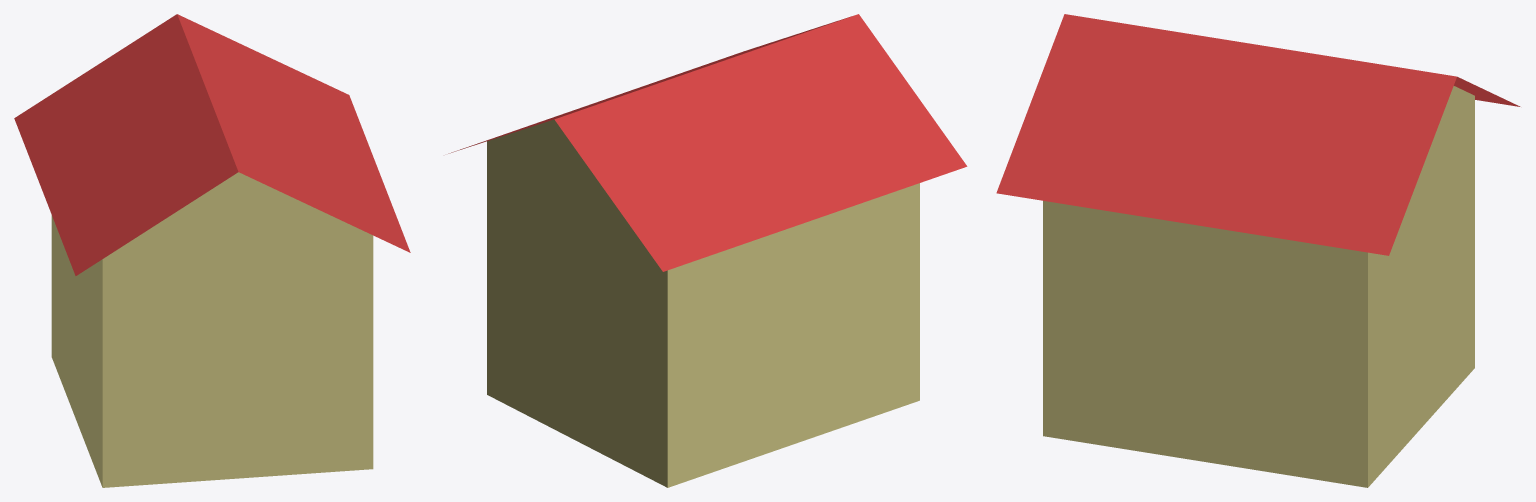
3 renders of one model, left to right at view 1: azimuth 30°, elevation 25°; view 2: azimuth 150°, elevation 25°; view 3: azimuth 270°, elevation 25°, orthographic. The views are drawn at different scales.
Size of the model in its own units: 10.39 by 10.92 by 8.13.
